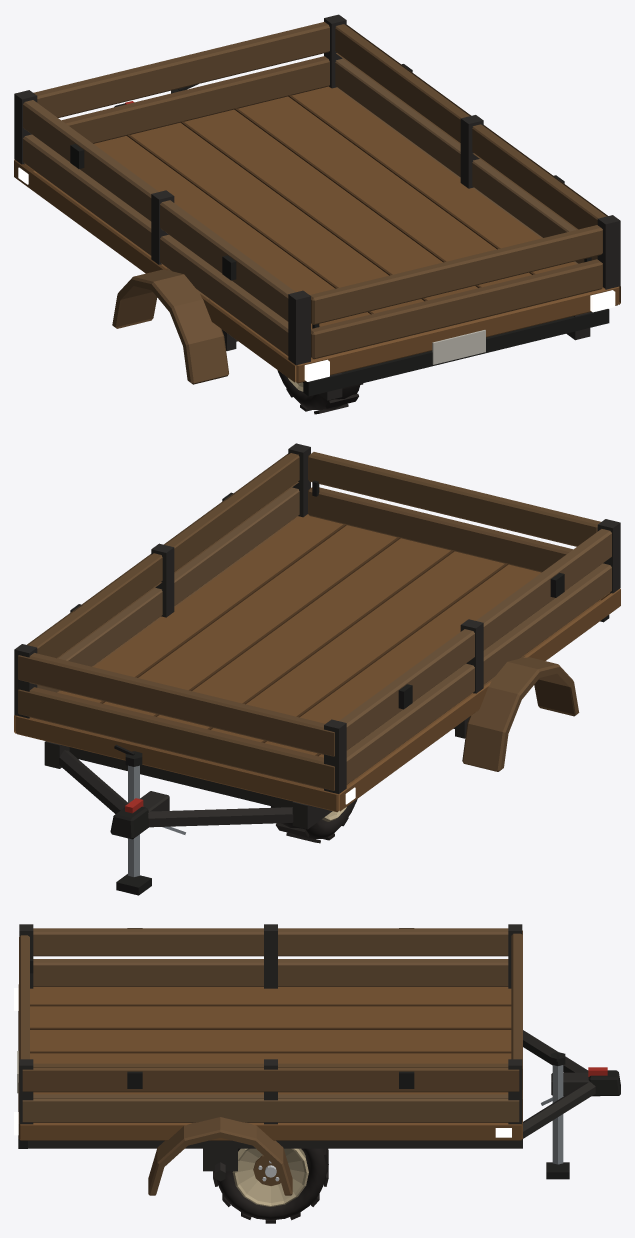
Rendered from PonyTrailer_Pickup.glb.
3 renders of one model, top to bottom at view 1: azimuth 30°, elevation 25°; view 2: azimuth 150°, elevation 25°; view 3: azimuth 270°, elevation 25°, orthographic. The views are drawn at different scales.
Visible parts, largest first — view 1: Bed, Body, Wheel, Lights; view 2: Bed, Body, Hitch, Wheel; view 3: Bed, Body, Wheel, Hitch.
Part boxes in pixels (box(x1,y1,x2,y2)): Bed: box(14, 14, 620, 383); Body: box(112, 268, 609, 400); Wheel: box(277, 370, 363, 414); Lights: box(18, 167, 615, 381); Bed: box(14, 443, 620, 811); Body: box(44, 615, 609, 829); Hitch: box(59, 744, 293, 895); Wheel: box(271, 799, 357, 843); Bed: box(18, 924, 522, 1140); Body: box(17, 1011, 522, 1195); Wheel: box(213, 1148, 328, 1223); Hitch: box(523, 1030, 620, 1179).
Bounding box in the file's own units: 10.31 × 6.32 × 15.64.
